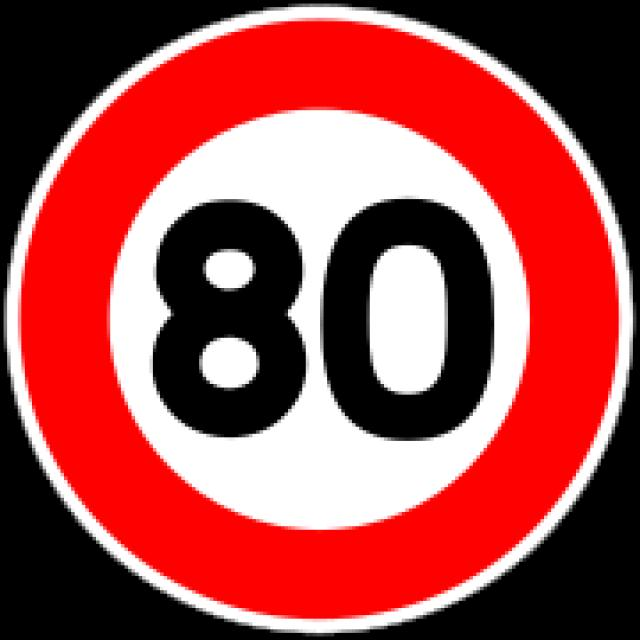Speed Limit -80-: (150, 198, 497, 442)
